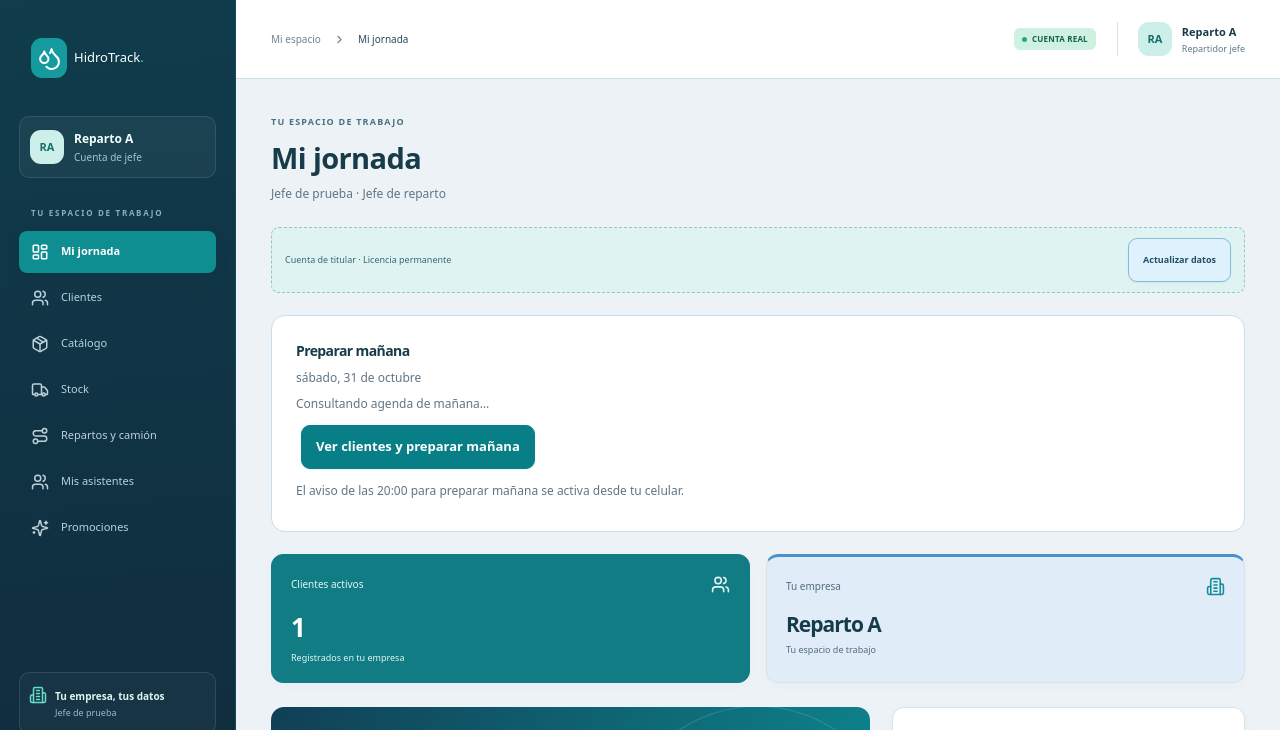
it: panel conectado del titular › abre el inventario real del jefe solo después de validar acceso y licencia
expect the text "Jefe de prueba · Jefe de reparto" is shown: met, box [271,184,446,205]
Click the button "Stock" at (118, 390), box [19,368,216,410]
(page scrolled)
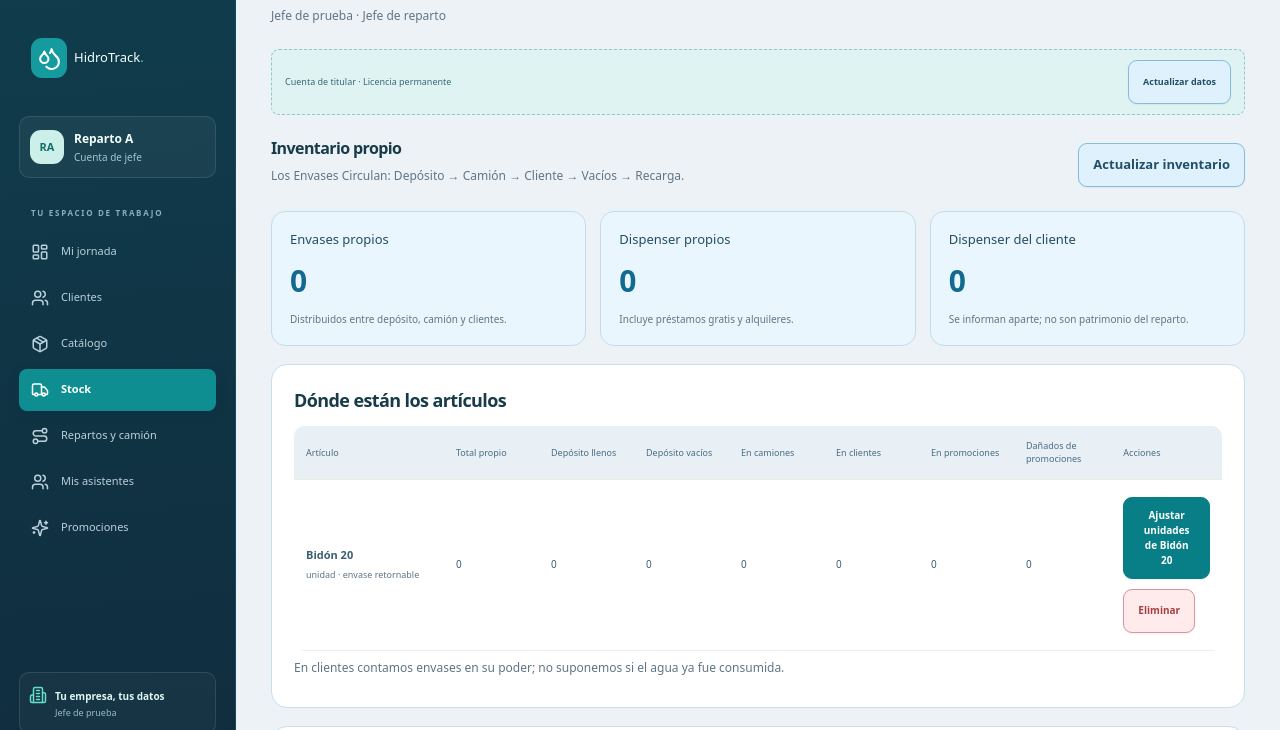
expect the heading "Dónde están los artículos" is shown: met, box [294,388,506,412]
